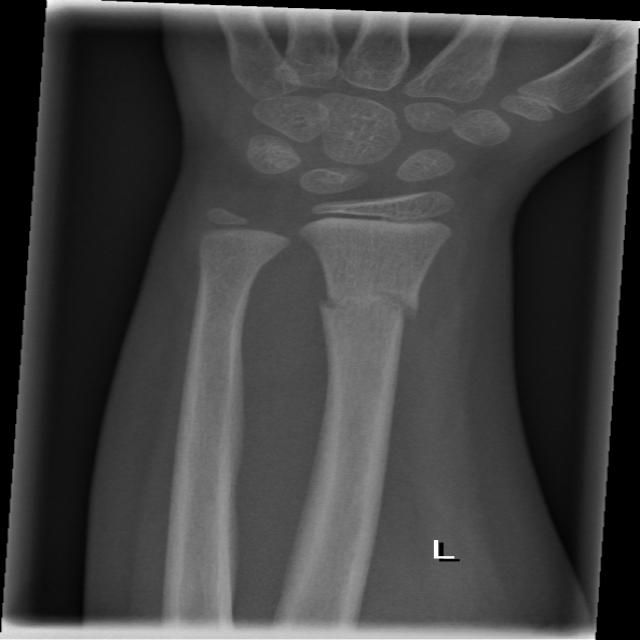radius fracture: (300, 241, 450, 422)
